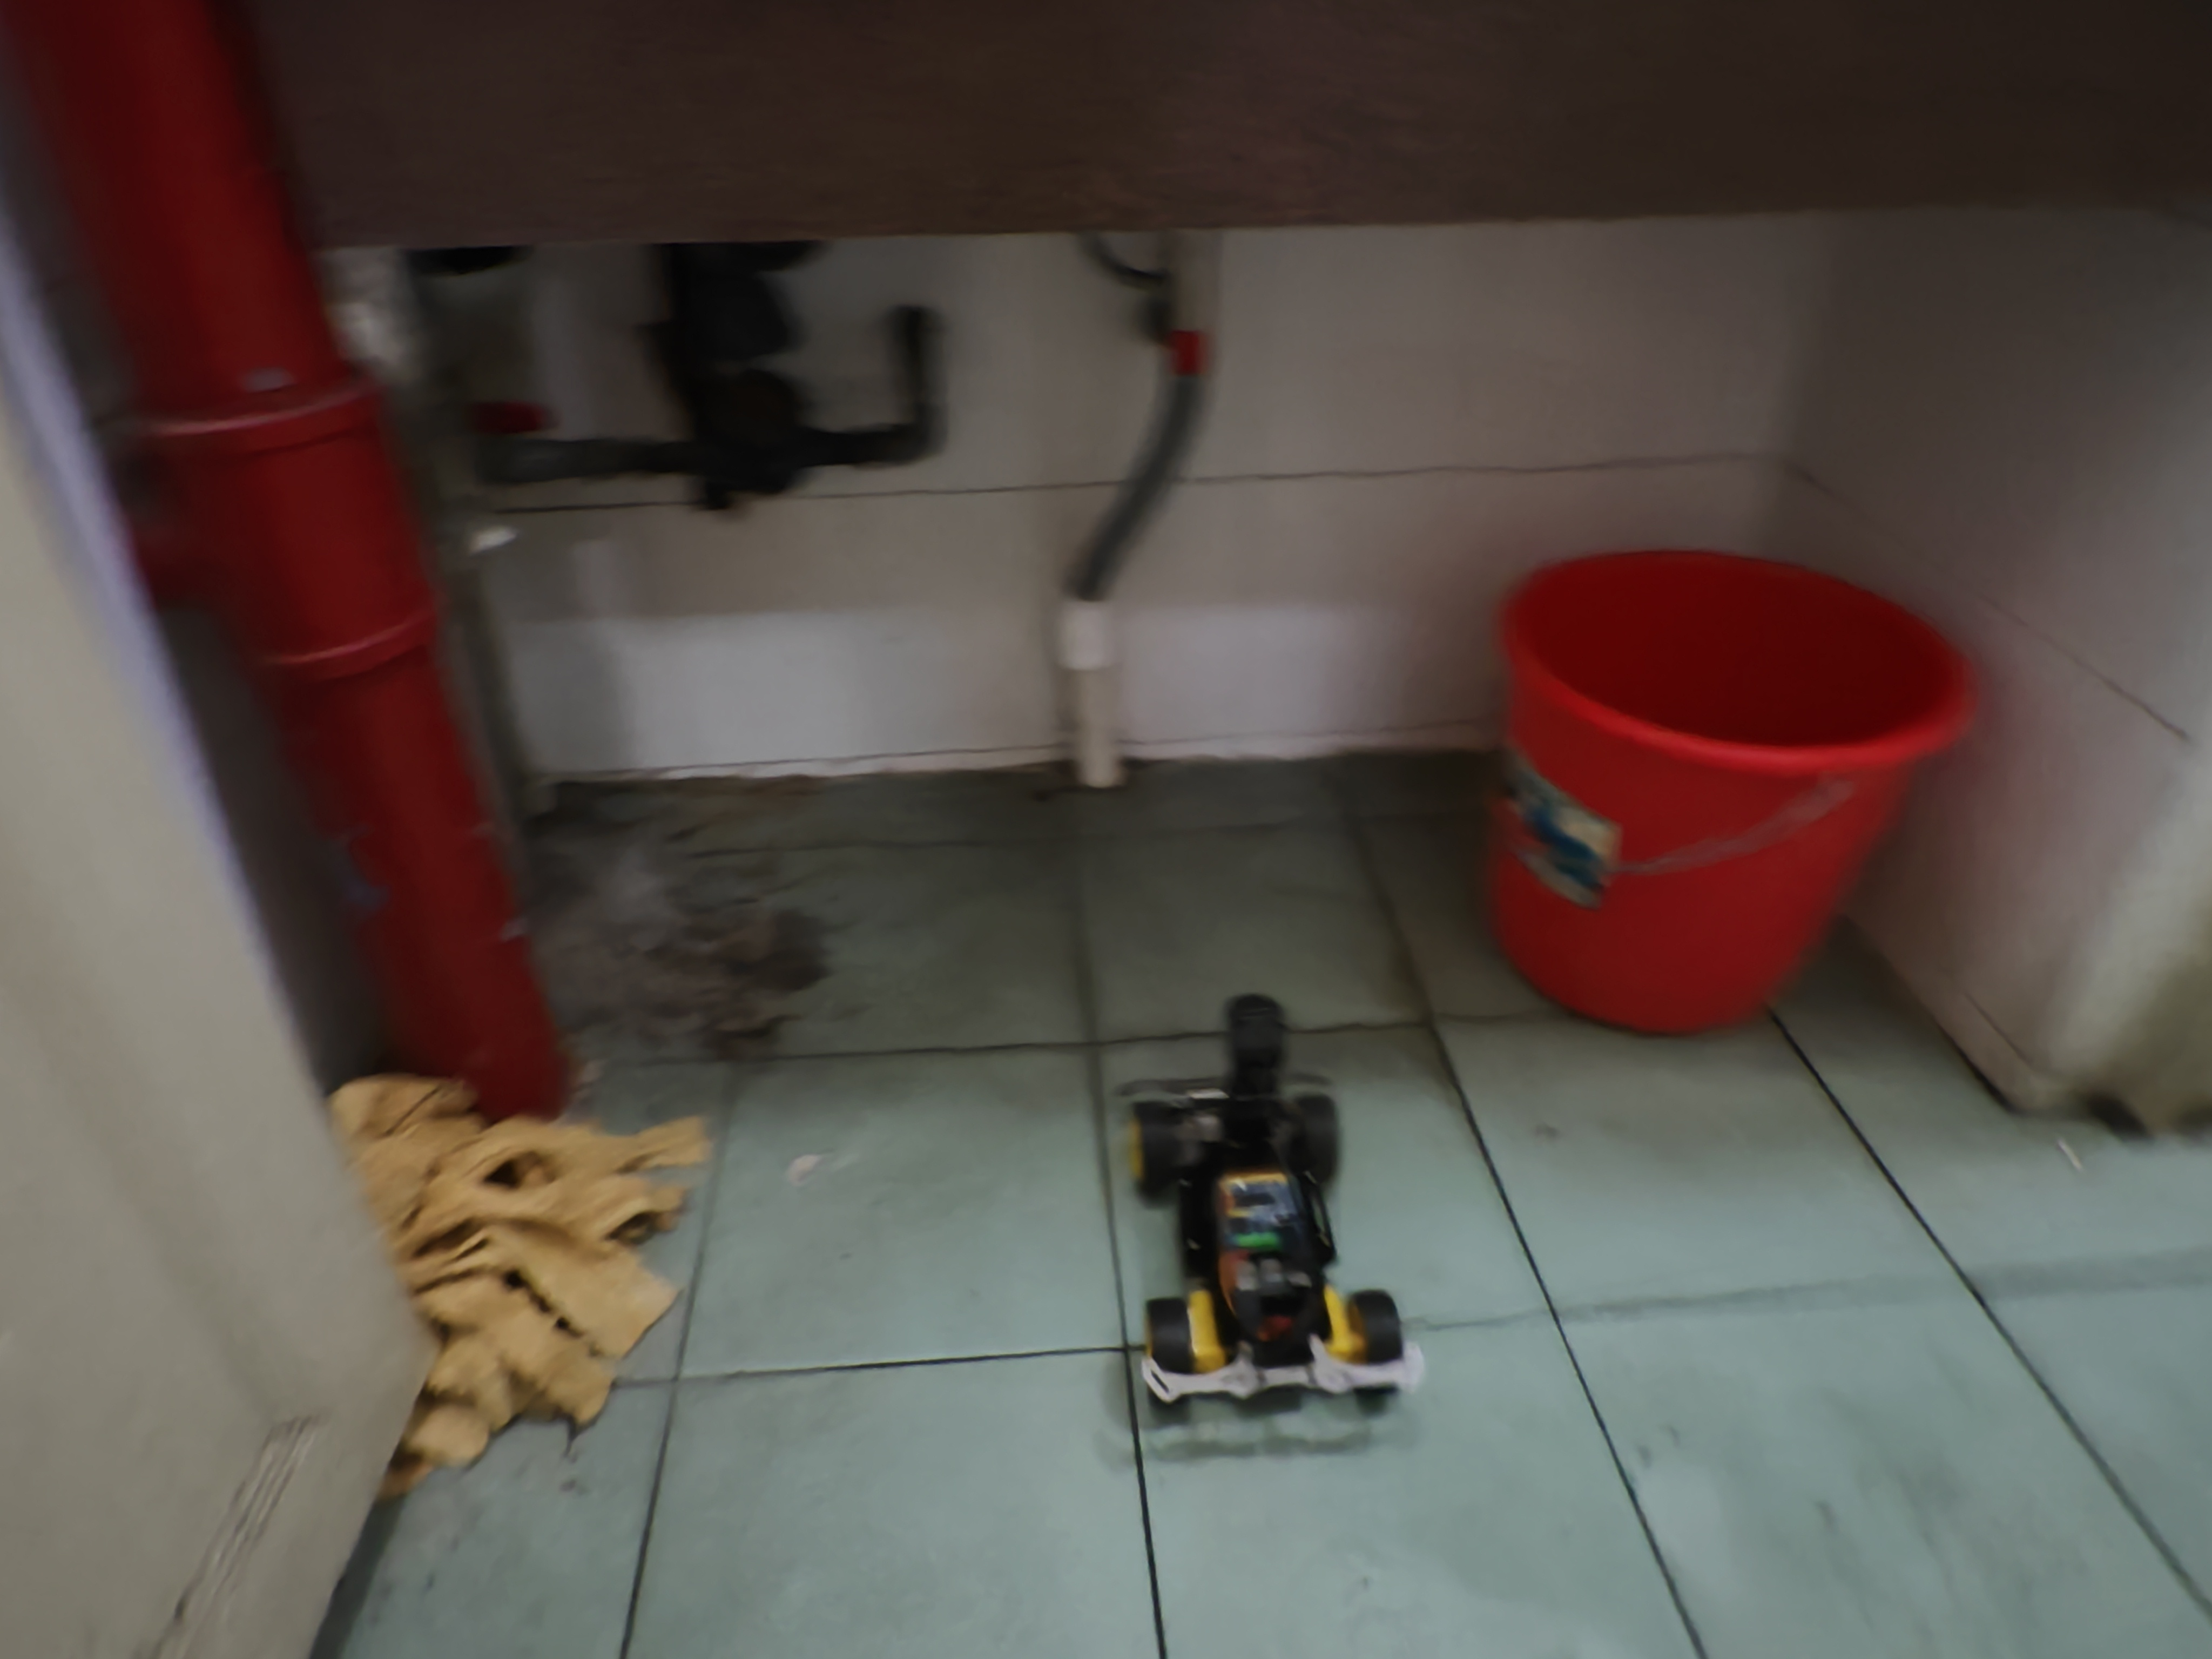car: (1099, 981, 1423, 1429)
